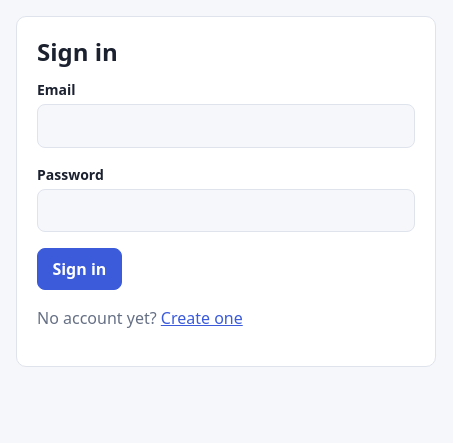
Test case: LoginComponent › shows the server error and re-enables the form
In the field labelled "Email": (226, 126) x1=37 y1=104 x2=415 y2=148, type "ana@example.com"
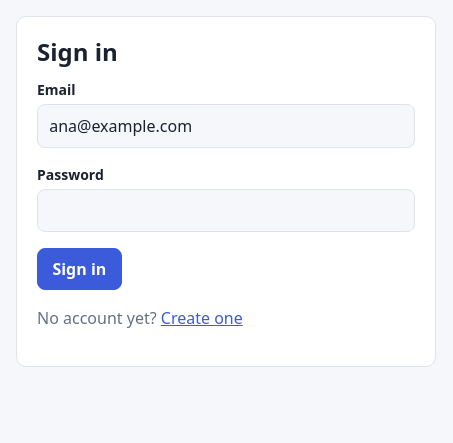
In the password field labelled "Password": (226, 210) x1=37 y1=189 x2=415 y2=232, type "wrong"
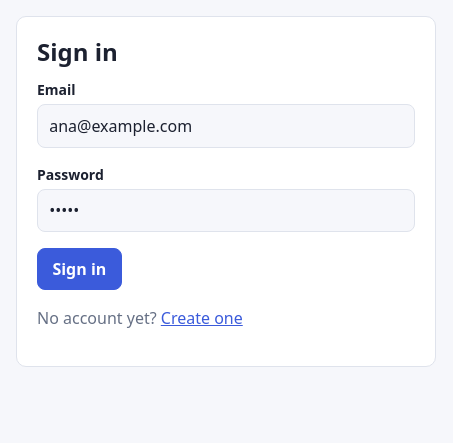
Submit the form, box x1=37 y1=79 x2=415 y2=290
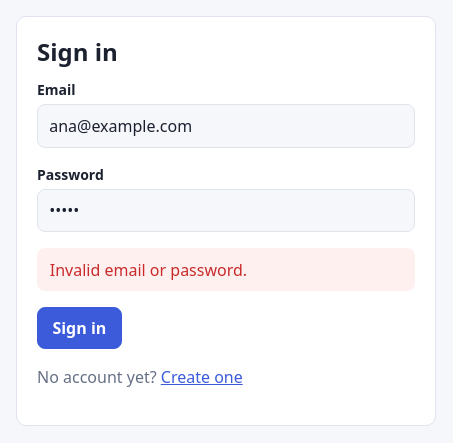
Result: the message "Invalid email or password." is shown at x1=37 y1=248 x2=415 y2=291
